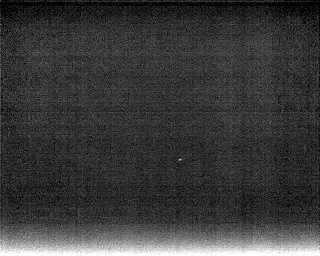BIRD: (176, 155, 184, 165)
